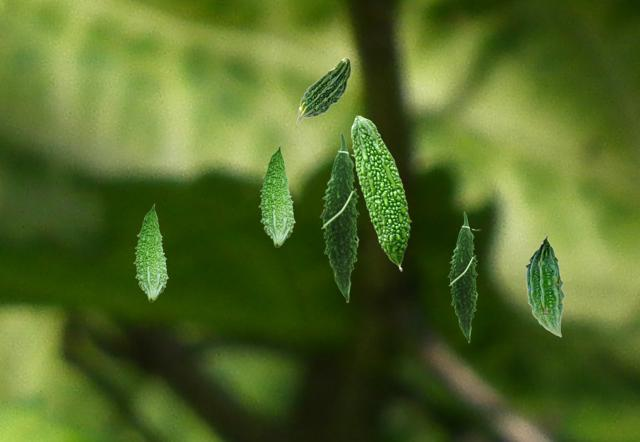ampalaya: (350, 115, 412, 272), (319, 131, 360, 303), (447, 211, 482, 343), (524, 234, 565, 337), (258, 144, 296, 248), (295, 57, 351, 124), (133, 203, 169, 302)
